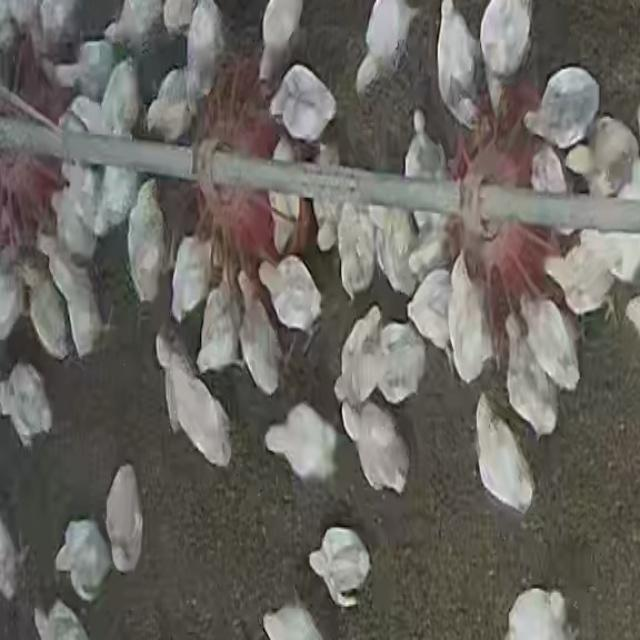chicken: (154, 326, 232, 472), (473, 394, 534, 516), (500, 312, 560, 434), (43, 237, 99, 361), (342, 398, 409, 498), (236, 264, 287, 392), (263, 403, 342, 485), (520, 67, 598, 149), (520, 291, 582, 393), (564, 114, 638, 198), (448, 248, 491, 386), (481, 0, 535, 107), (355, 0, 415, 95), (436, 1, 480, 130), (268, 64, 337, 145), (404, 110, 448, 230), (308, 524, 370, 608), (260, 254, 322, 336), (126, 181, 166, 308), (334, 306, 386, 403), (53, 519, 112, 603), (544, 238, 610, 312), (196, 275, 243, 377), (256, 0, 308, 92), (183, 0, 225, 112), (1, 361, 53, 450), (21, 261, 66, 362), (375, 317, 426, 405), (104, 464, 144, 576), (51, 38, 117, 100), (405, 270, 453, 353), (270, 135, 304, 252), (169, 232, 211, 326), (532, 144, 573, 238), (504, 583, 571, 640), (143, 68, 194, 142), (375, 202, 415, 296), (337, 198, 372, 298), (99, 60, 142, 139), (311, 146, 344, 248), (54, 163, 101, 231), (105, 0, 165, 51), (51, 190, 96, 258), (37, 0, 86, 58), (97, 168, 136, 236), (0, 247, 26, 344), (259, 605, 329, 640), (31, 600, 89, 640)
